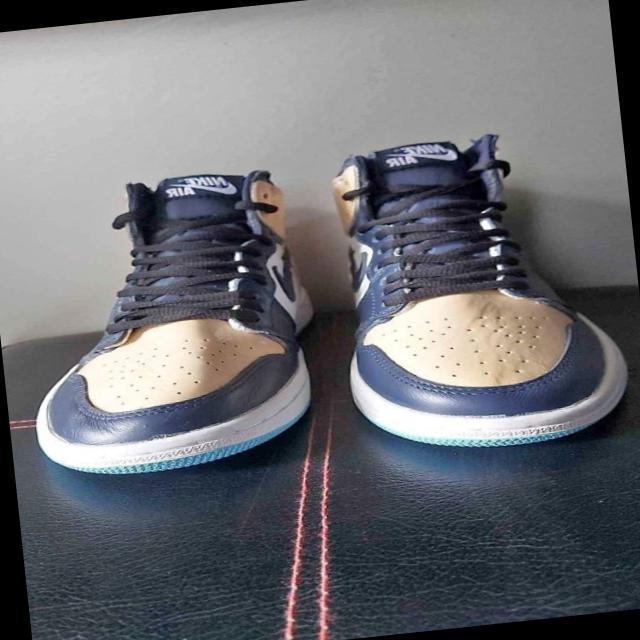nike fake jordan 1: (9, 158, 336, 482), (316, 122, 625, 462)
